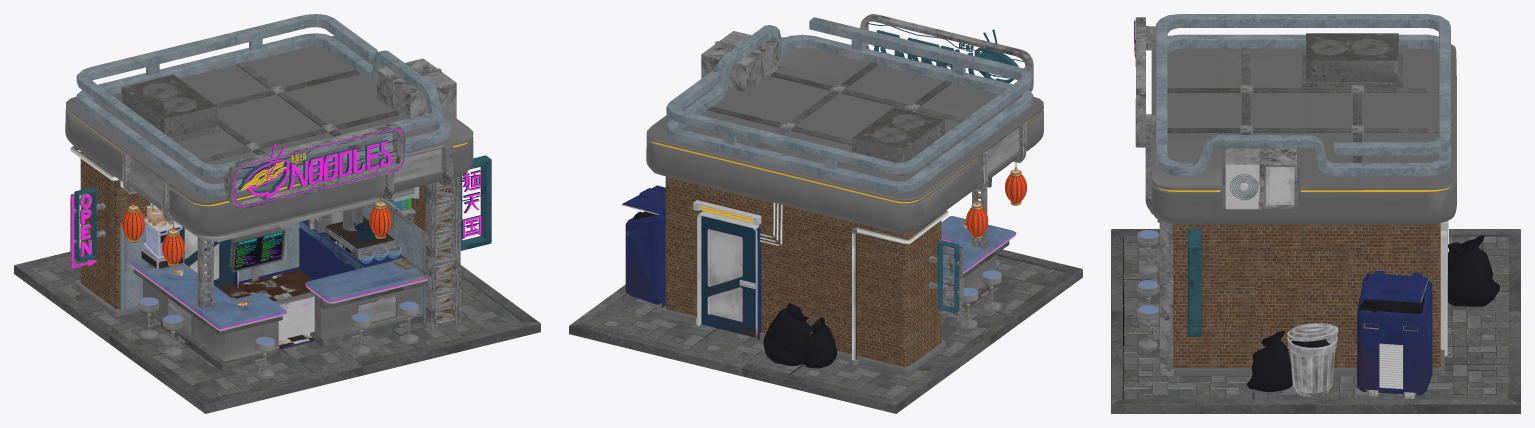
The model's file is kiosk.glb.
3 renders of one model, left to right at view 1: azimuth 30°, elevation 25°; view 2: azimuth 150°, elevation 25°; view 3: azimuth 270°, elevation 25°, orthographic. The views are drawn at different scales.
Parts seen in each view (by area): view 1: geo_Kiosk_M_TrimSheet_0, geo_Kiosk_M_UniqueAssets_0; view 2: geo_Kiosk_M_TrimSheet_0, geo_Kiosk_M_UniqueAssets_0, geo_Garbadge_Bin_M_UniqueAssets_0; view 3: geo_Kiosk_M_TrimSheet_0, geo_Kiosk_M_UniqueAssets_0, geo_Garbadge_Bin_M_UniqueAssets_0.
Part boxes in pixels (x1=…): geo_Kiosk_M_TrimSheet_0: x1=14, y1=14, x2=540, y2=413; geo_Kiosk_M_UniqueAssets_0: x1=122, y1=186, x2=427, y2=379; geo_Kiosk_M_TrimSheet_0: x1=569, y1=14, x2=1082, y2=413; geo_Kiosk_M_UniqueAssets_0: x1=621, y1=163, x2=1026, y2=340; geo_Garbadge_Bin_M_UniqueAssets_0: x1=633, y1=211, x2=837, y2=368; geo_Kiosk_M_TrimSheet_0: x1=1111, y1=14, x2=1520, y2=413; geo_Kiosk_M_UniqueAssets_0: x1=1137, y1=164, x2=1447, y2=398; geo_Garbadge_Bin_M_UniqueAssets_0: x1=1246, y1=235, x2=1499, y2=397.
Bounding box in the file's own units: 7.33 × 5.08 × 7.13.
Materials: 2 (2 with a texture image).
